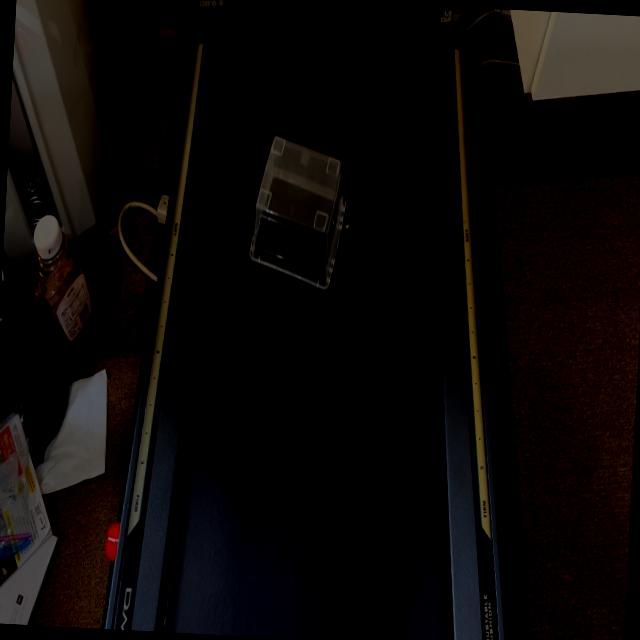Recycle: (248, 134, 350, 292)
